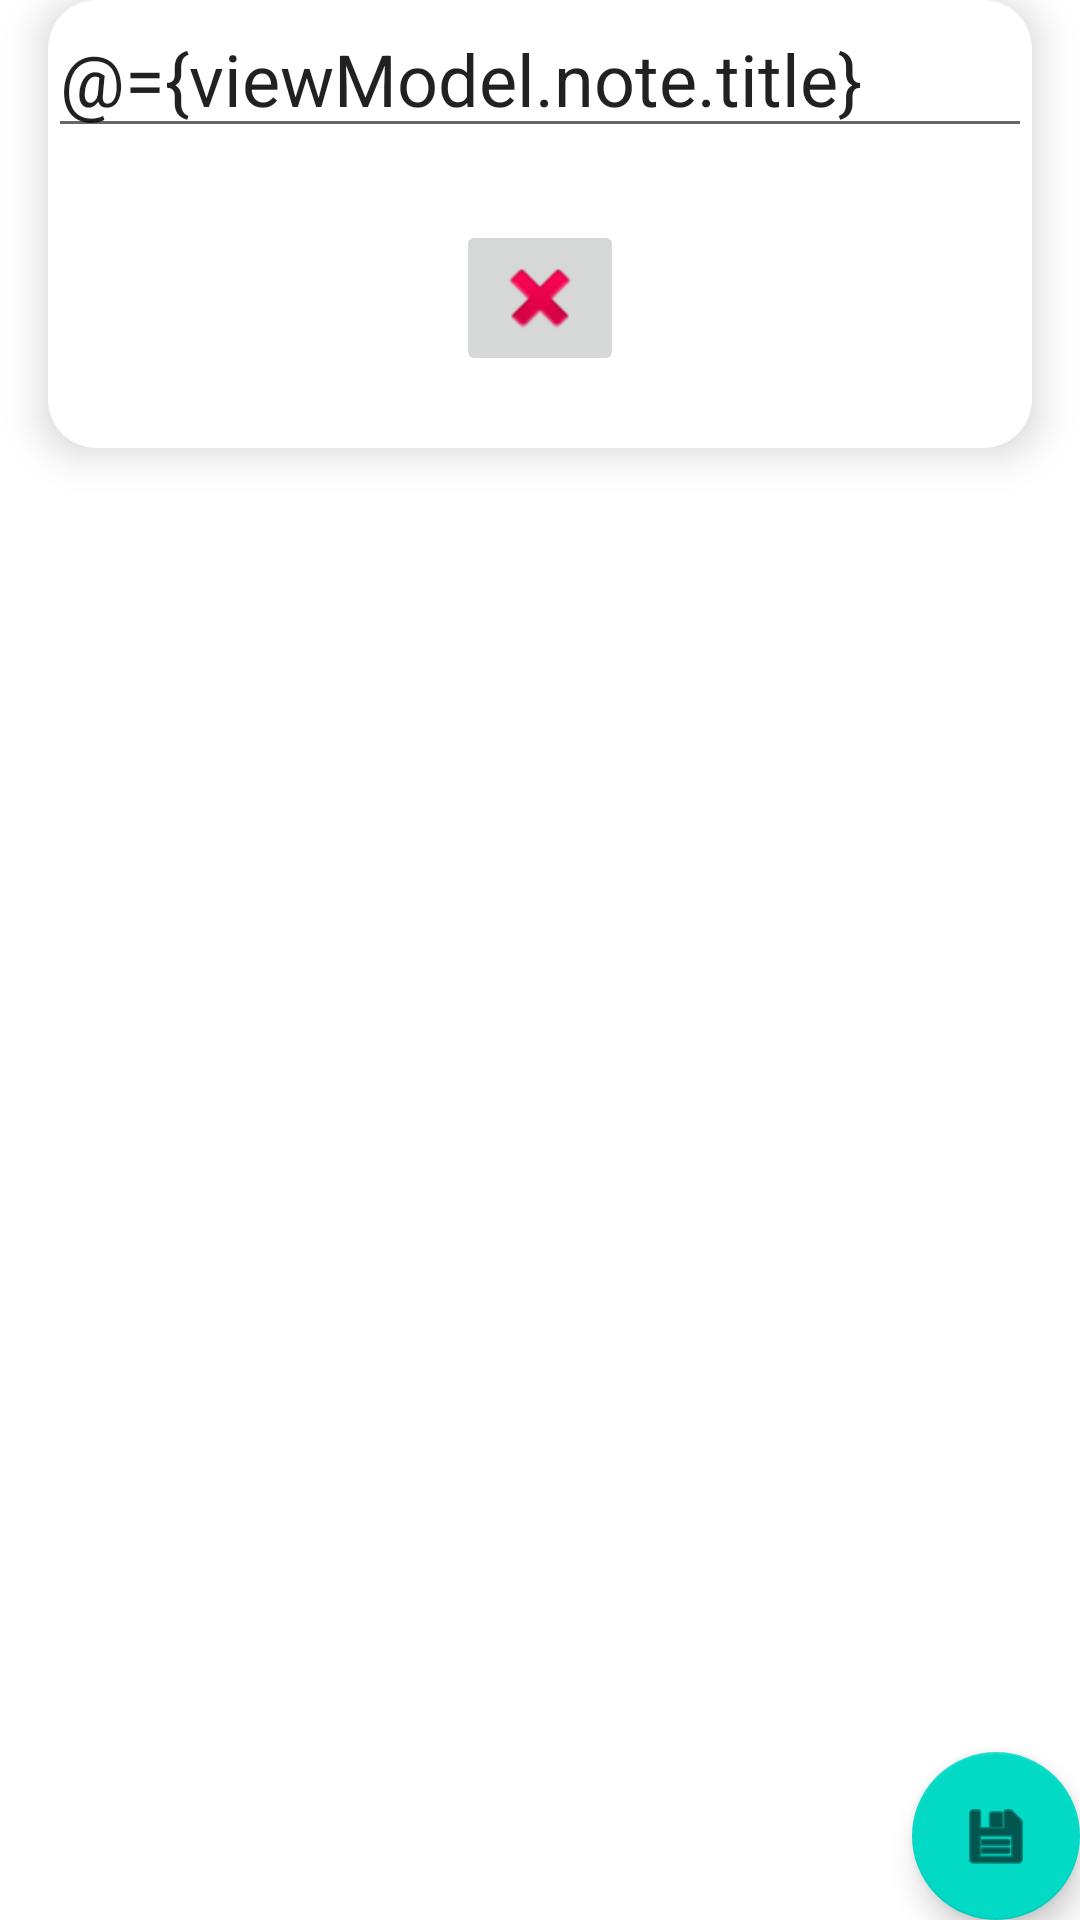

Locate icon controls on the screen. Image size 1080px×1920px, boxes as (x1, y1, x2, y2).
discard draft: (468, 238, 612, 358)
save: (912, 1752, 1080, 1920)
